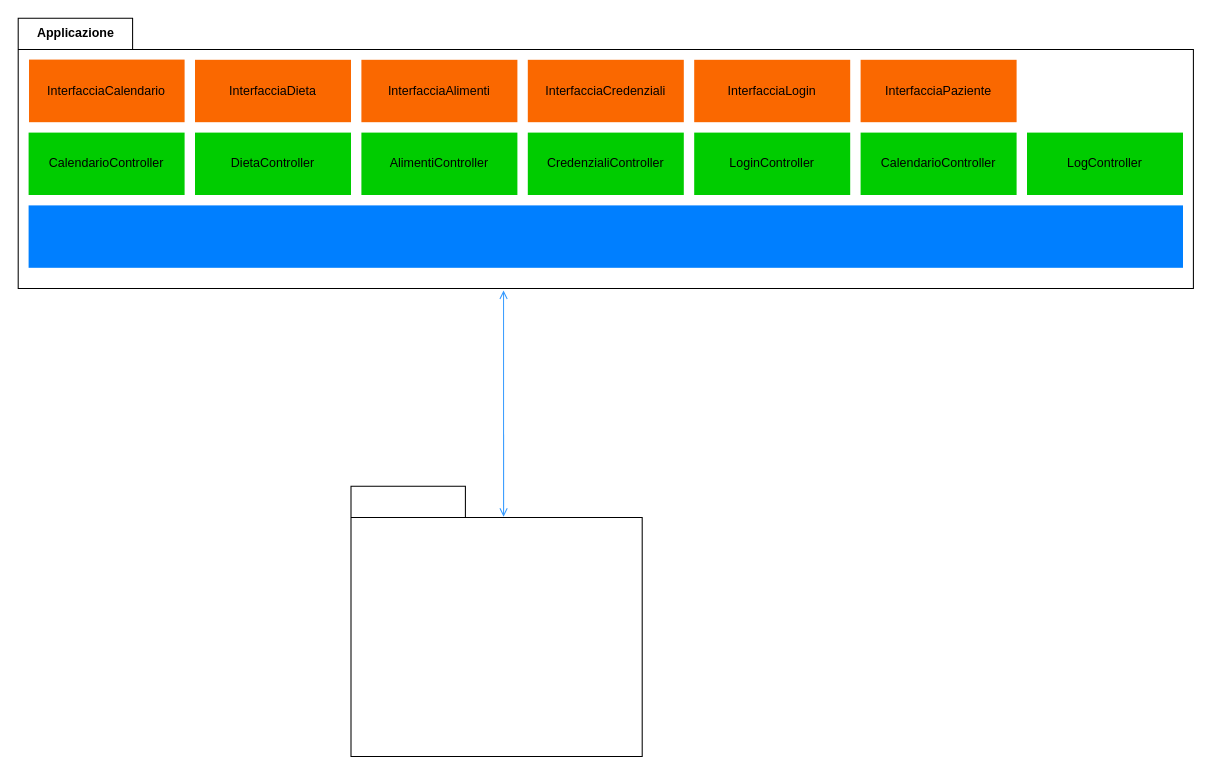
Some shapes in this 1212 by 775 pixel diagram are drawn without their labels. Each missing label, with the centre of its shape:
Database: pixel 496 621
Dominio Applicazione: pixel 605 236
